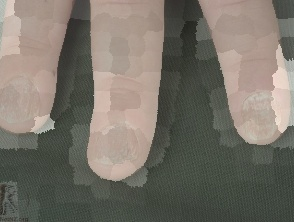Nail_psoriasis: (85, 111, 149, 180), (236, 84, 288, 147), (0, 69, 50, 132)
